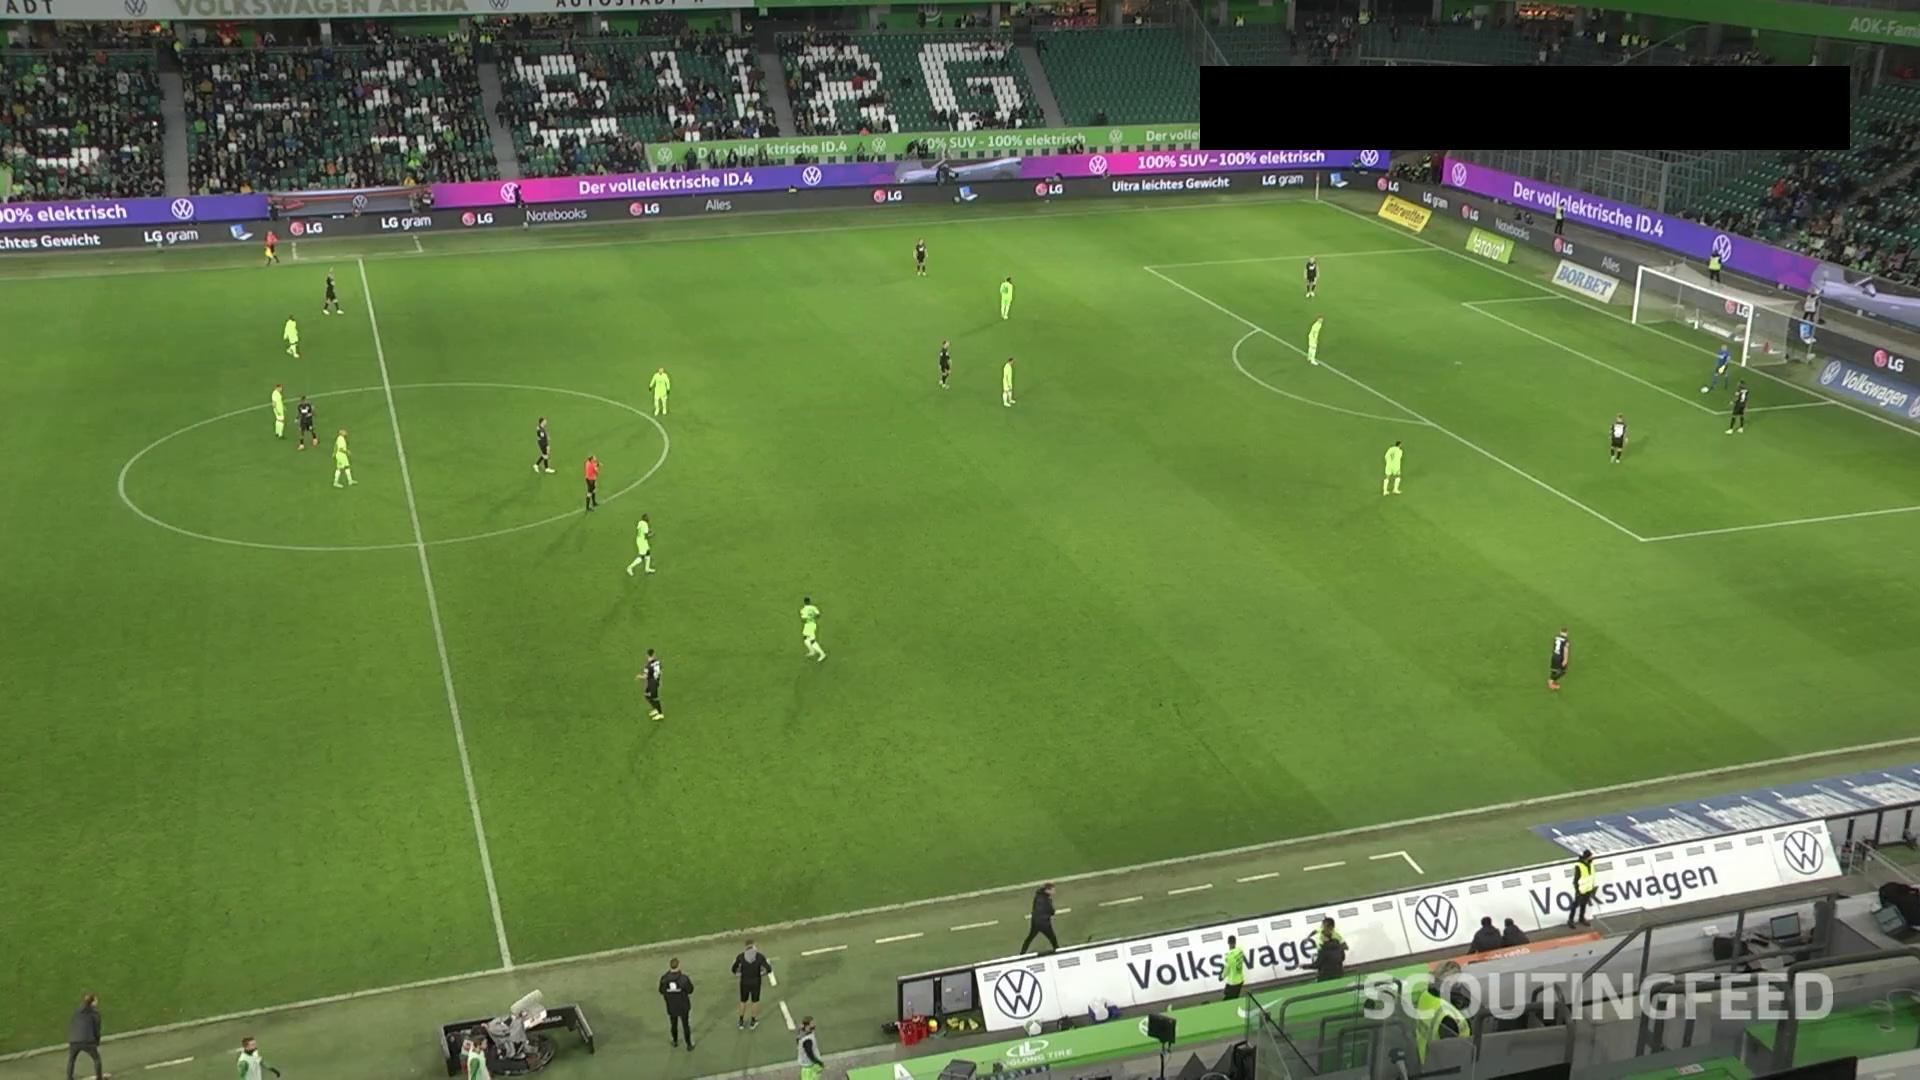Location-of-ball: (1698, 377, 1716, 400)
